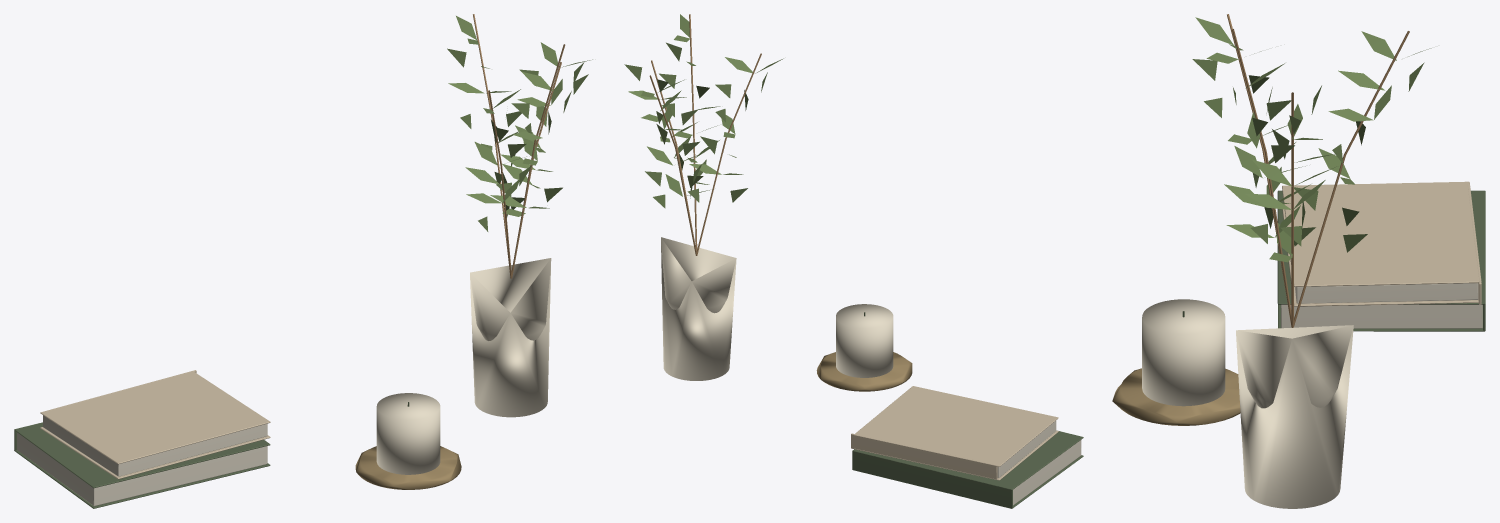
File: coffee-still-life-light.glb
3 views of the same model, side by side, from view 1: azimuth 30°, elevation 25°; view 2: azimuth 150°, elevation 25°; view 3: azimuth 270°, elevation 25° (orthographic). The views are drawn at different scales.
Parts seen in each view (by area): view 1: Mood stoneware chalk, Mood linen oat, Mood book pages, Mood olive leaf, Mood book olive, Mood aged brass, Mood oak board; view 2: Mood stoneware chalk, Mood linen oat, Mood book olive, Mood olive leaf, Mood aged brass, Mood book pages, Mood oak board; view 3: Mood stoneware chalk, Mood linen oat, Mood olive leaf, Mood book pages, Mood aged brass, Mood book olive, Mood oak board.
Part boxes in pixels (x1=…): Mood stoneware chalk: x1=376, y1=258, x2=551, y2=474; Mood linen oat: x1=40, y1=370, x2=270, y2=479; Mood book pages: x1=17, y1=415, x2=267, y2=506; Mood olive leaf: x1=447, y1=16, x2=592, y2=231; Mood book olive: x1=14, y1=402, x2=409, y2=508; Mood aged brass: x1=355, y1=446, x2=461, y2=489; Mood oak board: x1=473, y1=14, x2=565, y2=278; Mood stoneware chalk: x1=661, y1=237, x2=893, y2=380; Mood linen oat: x1=851, y1=386, x2=1058, y2=480; Mood book olive: x1=852, y1=312, x2=1083, y2=508; Mood olive leaf: x1=624, y1=14, x2=783, y2=208; Mood aged brass: x1=816, y1=352, x2=912, y2=391; Mood book pages: x1=997, y1=420, x2=1081, y2=505; Mood oak board: x1=649, y1=14, x2=761, y2=255; Mood stoneware chalk: x1=1142, y1=299, x2=1353, y2=508; Mood linen oat: x1=1282, y1=181, x2=1481, y2=306; Mood olive leaf: x1=1192, y1=17, x2=1431, y2=262; Mood book pages: x1=1281, y1=283, x2=1482, y2=328; Mood aged brass: x1=1112, y1=368, x2=1240, y2=425; Mood book olive: x1=1182, y1=190, x2=1485, y2=331; Mood oak board: x1=1227, y1=14, x2=1409, y2=327.
Bounding box in the file's own units: 0.762 × 0.5337 × 0.3772.
